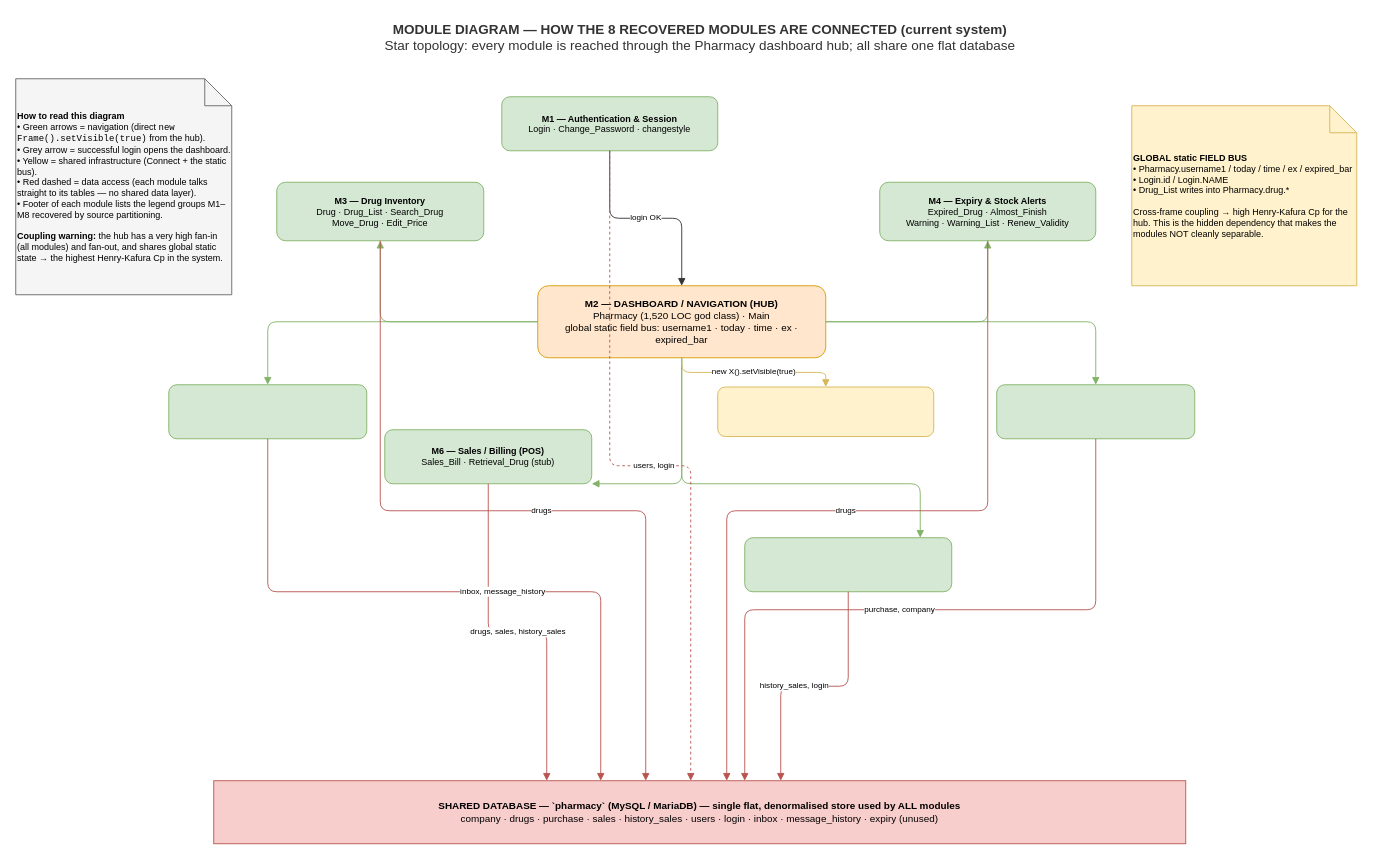
Some shapes in this 1373 by 860 pixel diagram are drawn without their labels. The centre of each missing label's shape, as x and y in pixels:
INFRASTRUCTURE Connect (JDBC helper) · User · Company: point (825, 411)
M5 — Purchasing Buy_Drug · All_Deal: point (1095, 411)
M7 — Reporting / Audit Shift_Sales · Login_Details: point (848, 564)
M8 — Messaging Inbox · Send · Show_Message: point (267, 411)
